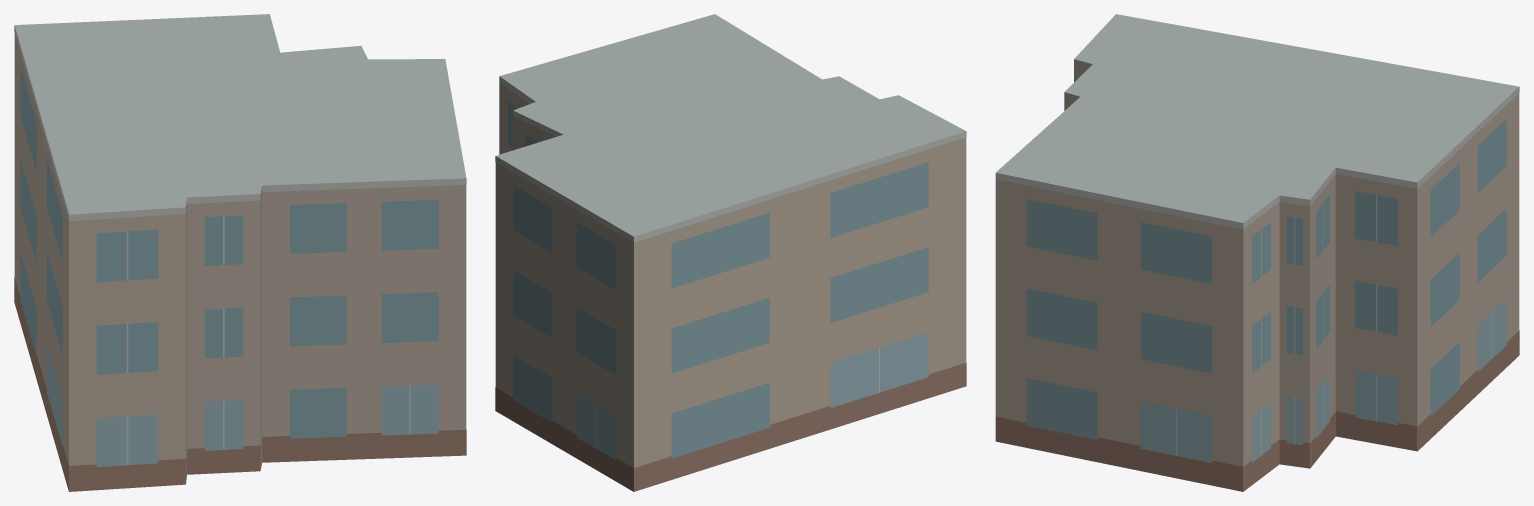
File: survey-upis-32478136.glb
3 renders of one model, left to right at view 1: azimuth 30°, elevation 25°; view 2: azimuth 150°, elevation 25°; view 3: azimuth 270°, elevation 25°, orthographic. The views are drawn at different scales.
Visible parts, largest first — view 1: survey-upis-32478136.tmp; view 2: survey-upis-32478136.tmp; view 3: survey-upis-32478136.tmp.
Part boxes in pixels (x1=…): survey-upis-32478136.tmp: x1=14, y1=14, x2=466, y2=491; survey-upis-32478136.tmp: x1=495, y1=14, x2=966, y2=491; survey-upis-32478136.tmp: x1=995, y1=14, x2=1519, y2=491.
Size of the model in its own units: 17.11 by 10.25 by 18.11.
